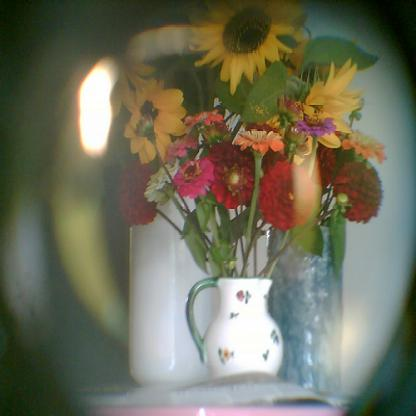SUN FLOWER: (73, 4, 367, 354)
